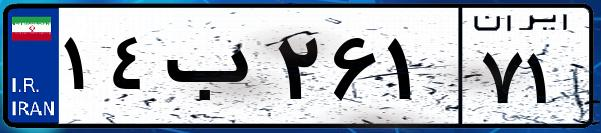1: (385, 28, 445, 110), (57, 26, 110, 100), (525, 38, 570, 115)
2: (270, 28, 330, 110)
4: (110, 28, 158, 98)
6: (330, 28, 385, 110)
7: (475, 38, 525, 113)
ب: (158, 20, 270, 120)
